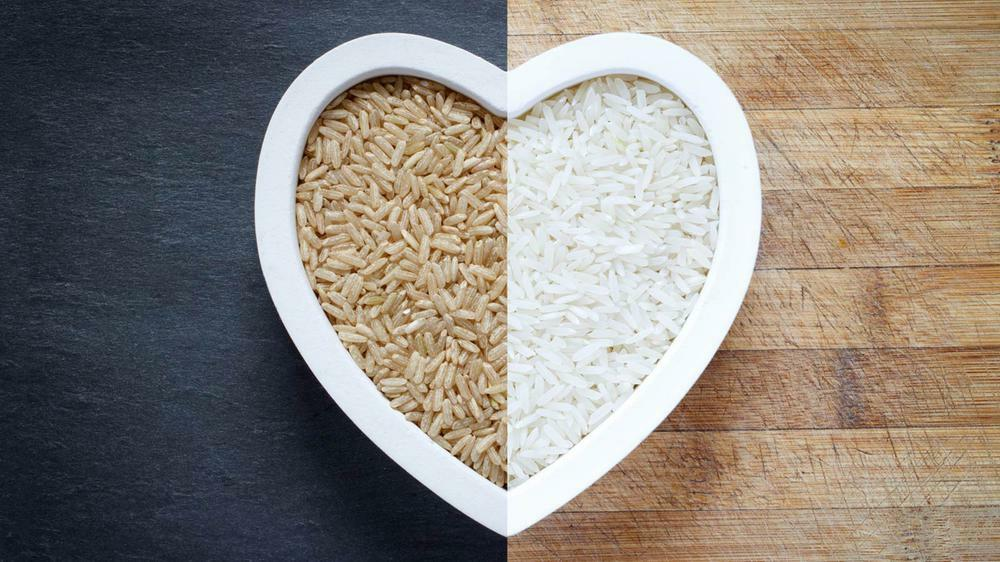WhiteRice: (512, 74, 723, 489)
